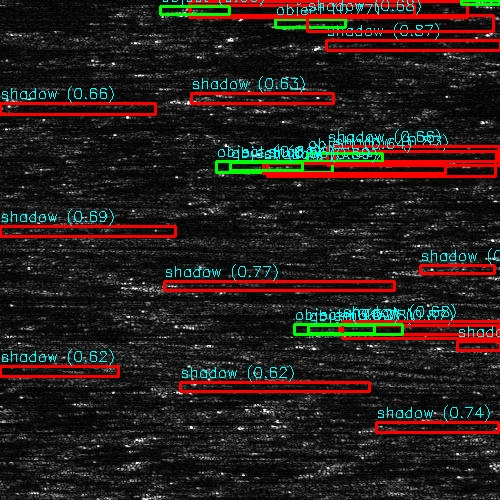rock: (318, 324, 401, 333), (301, 154, 364, 161), (161, 7, 234, 12), (328, 40, 359, 49), (181, 306, 192, 319), (241, 166, 272, 169), (491, 0, 500, 4)
shadow: (0, 291, 377, 300), (187, 306, 415, 319), (0, 227, 198, 236), (360, 324, 500, 333), (333, 154, 500, 161), (0, 419, 103, 428), (344, 40, 433, 49), (257, 166, 500, 169), (198, 7, 284, 12), (0, 0, 240, 1), (0, 303, 17, 312)
